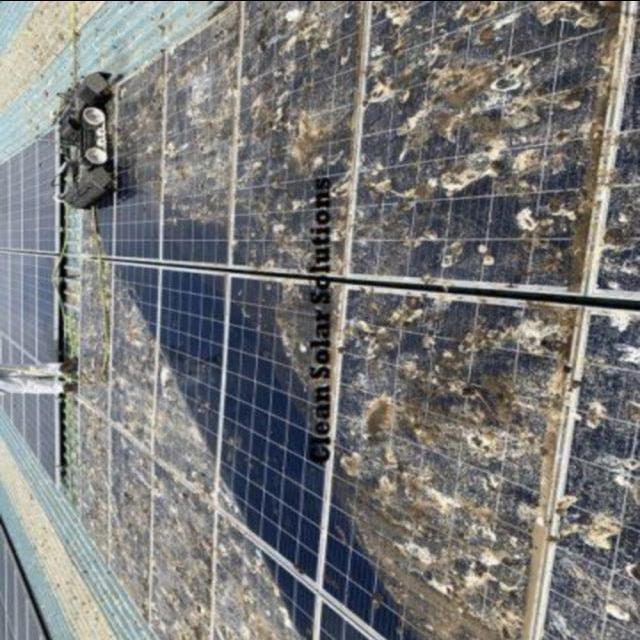soiled: (71, 0, 640, 634)
